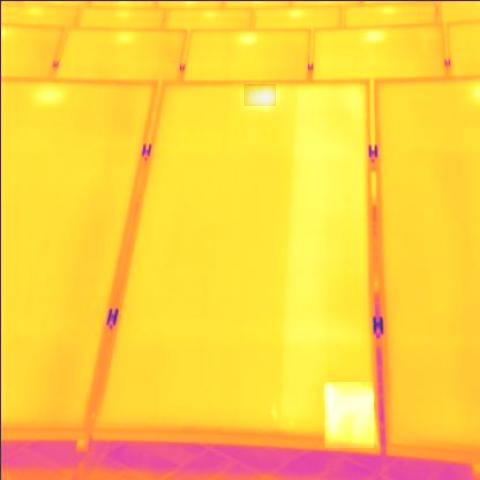fault: (325, 382, 374, 448), (244, 84, 276, 106)
